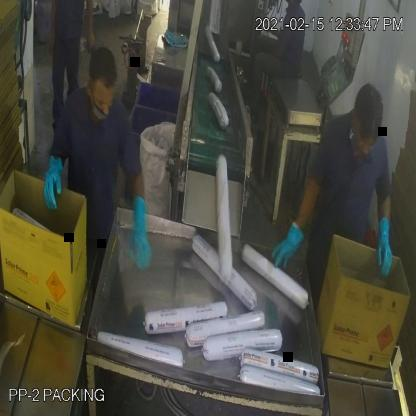glove: (124, 180, 158, 282), (264, 213, 310, 280), (42, 146, 73, 221), (372, 206, 399, 286)
no_glove: (82, 0, 99, 55), (48, 0, 60, 59)
